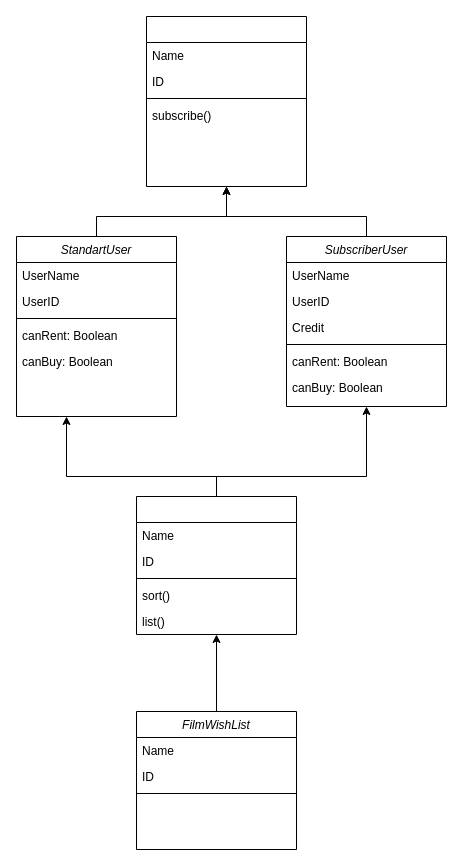
The diagram is 463 pixels wide and 866 high, and some of its shapes have lost their labels. The box of each missing label's shape, as (x1, y1, x2, y2) in pixels:
Film: (136, 496, 296, 634)
onlineFilmSystem: (146, 16, 306, 186)
